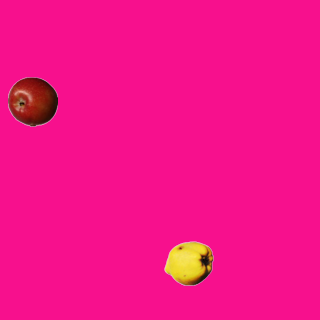Apple Braeburn: (7, 76, 57, 126)
Quince: (163, 238, 213, 288)
